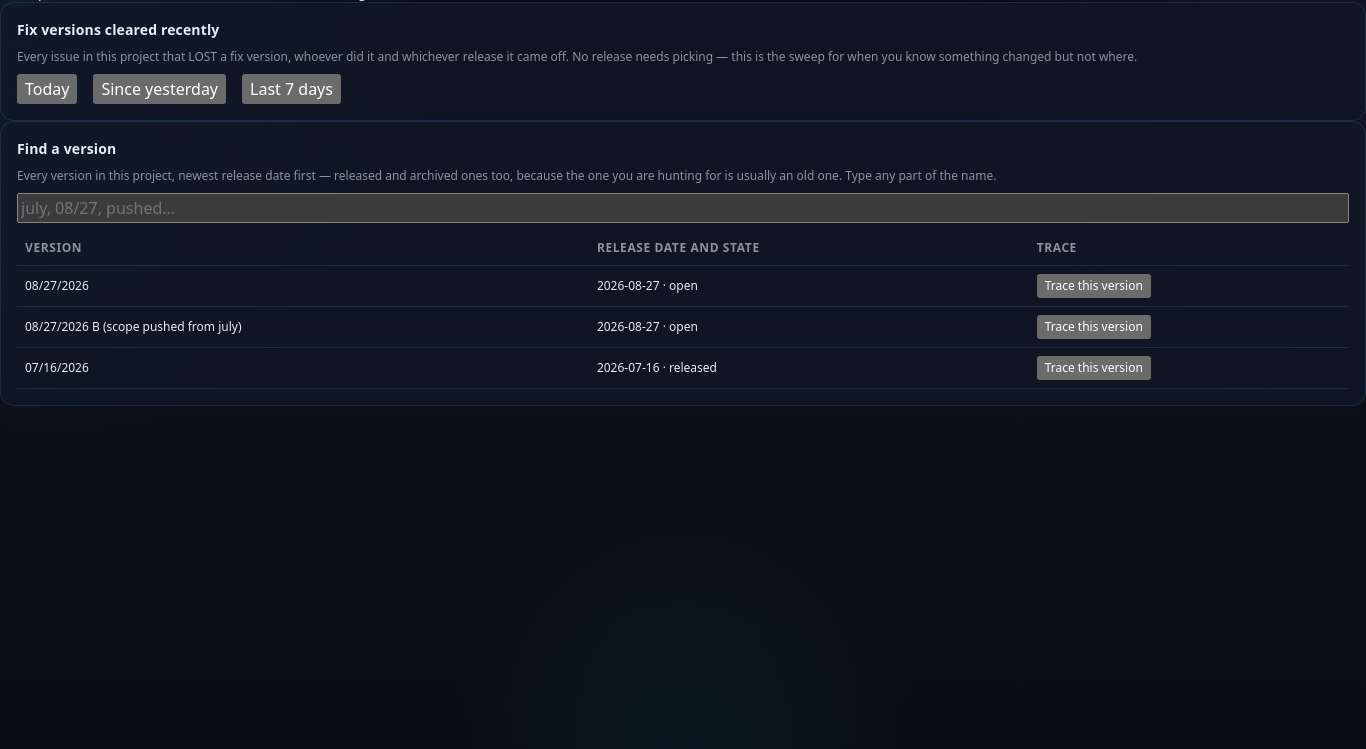
Test case: VersionMovementPanel — what the release looked like at a moment › names what was removed between then and now
Click the 1st button "Trace this version" at (1094, 286), box [1037,274,1151,298]
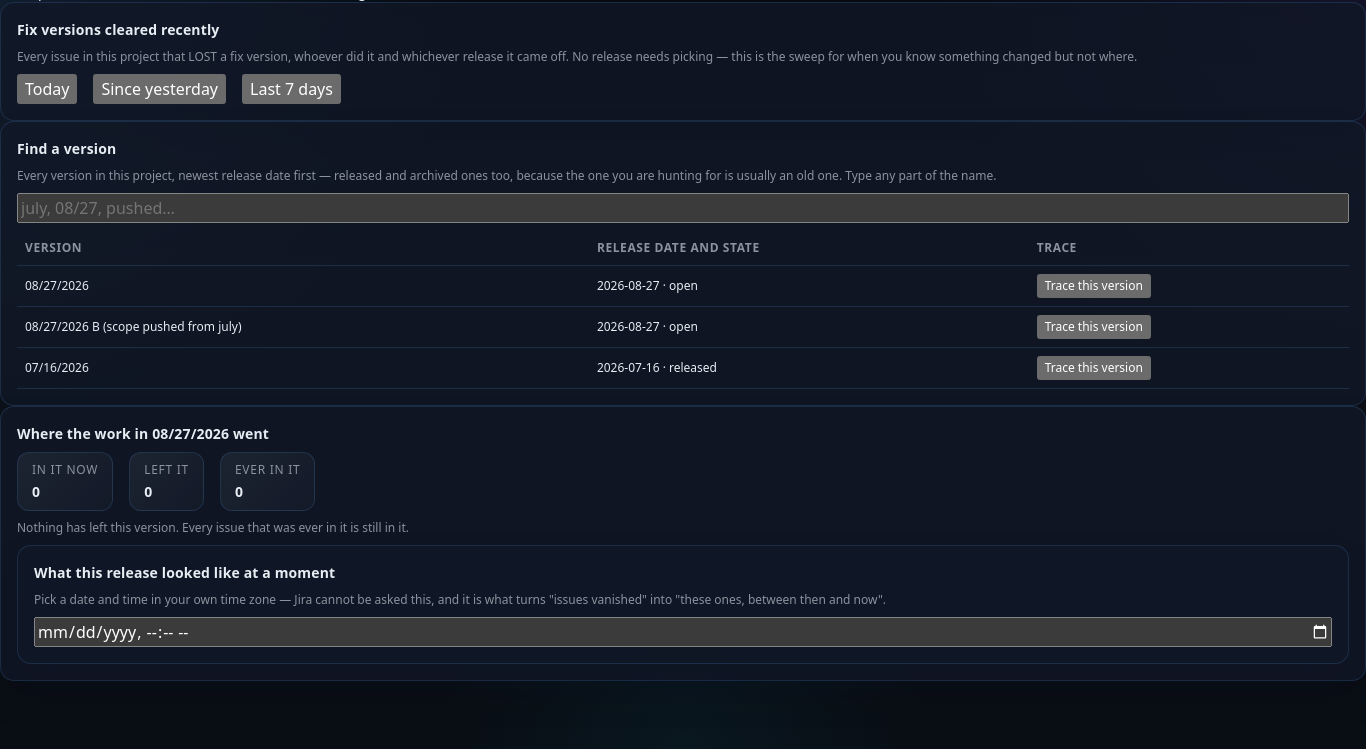
Type "2026-08-21T13:00" into the field named "Release contents as of" at (683, 632), box [34,617,1332,647]
(page scrolled)
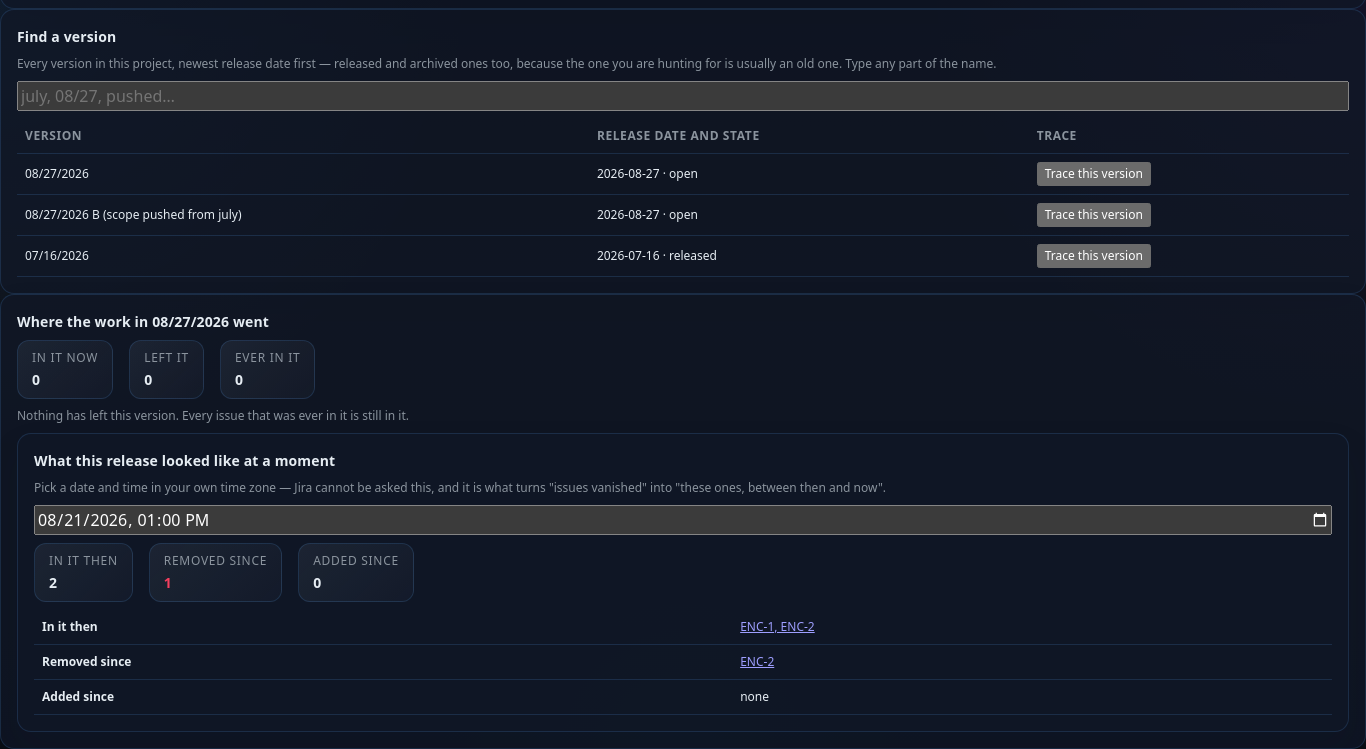
Result: the text "REMOVED SINCE" is shown at [164,552,267,570]
Result: the link "ENC-2" is shown at [740,653,774,670]
